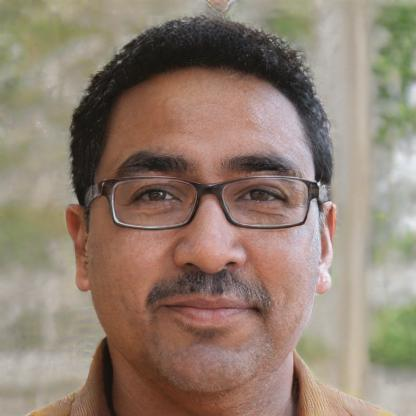glasses: (92, 168, 322, 235)
